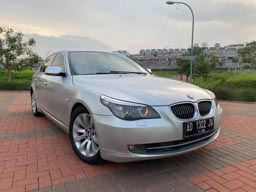plat: (183, 116, 215, 136)
